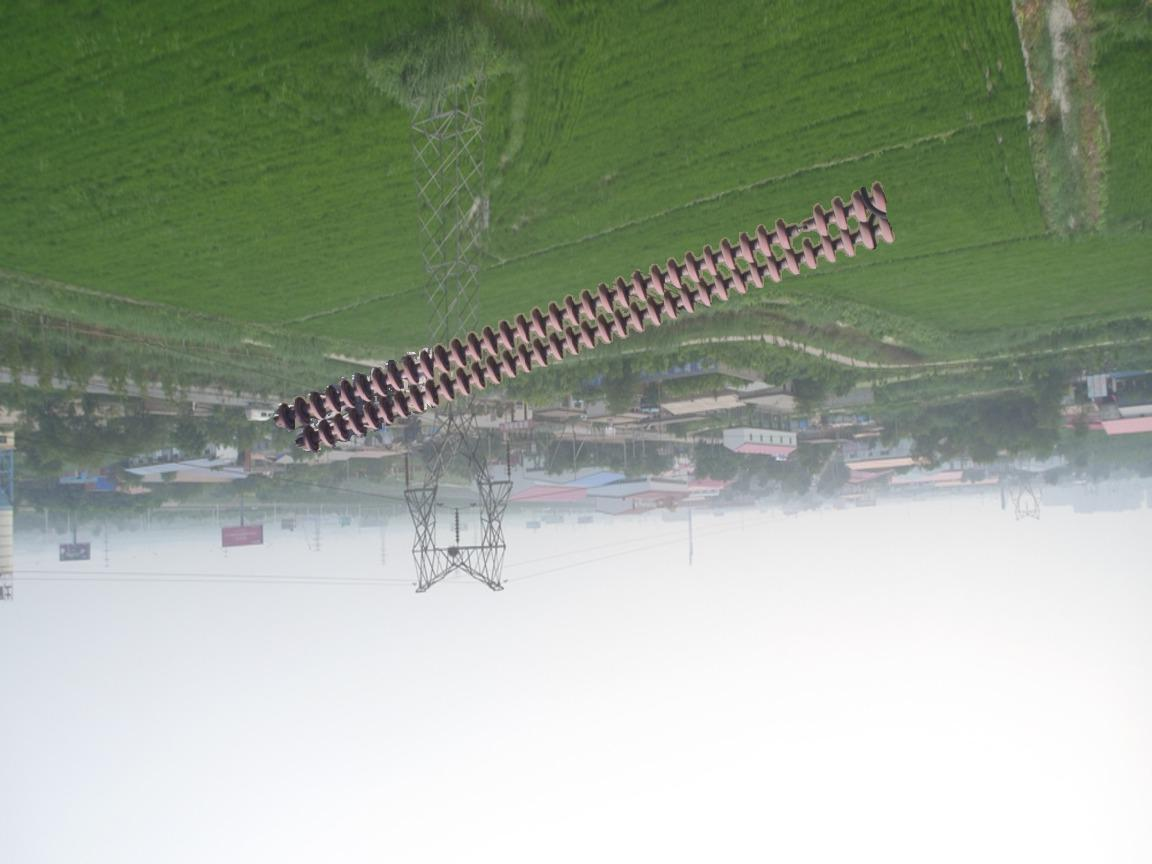insulator: (271, 177, 903, 453)
insulator_stringdrop: (773, 200, 831, 254)
